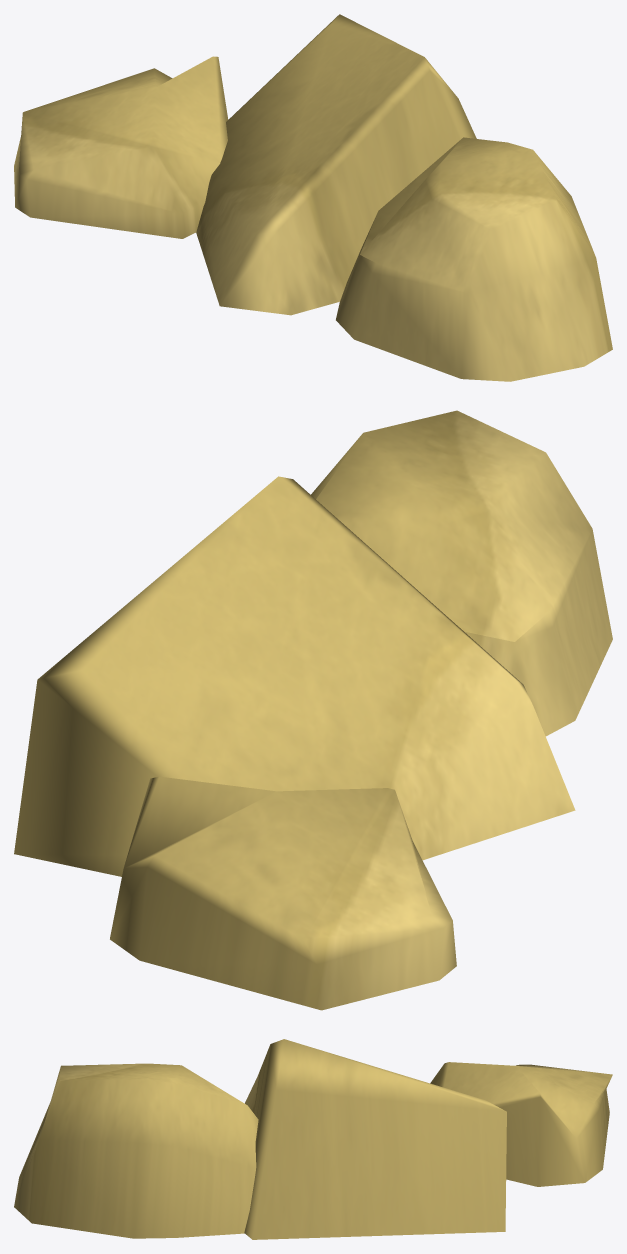
The model's file is rocks2.fbx.
3 renders of one model, top to bottom at view 1: azimuth 30°, elevation 25°; view 2: azimuth 150°, elevation 25°; view 3: azimuth 270°, elevation 25°, orthographic. The views are drawn at different scales.
Visible parts, largest first — view 1: pCube165; view 2: pCube165; view 3: pCube165.
Boxes of the visible parts, x1,y1,x2,y2 form: pCube165: [14, 14, 612, 381]; pCube165: [14, 410, 612, 1010]; pCube165: [14, 1039, 612, 1239].
Size of the model in its own units: 0.0852 by 0.046 by 0.1494.
